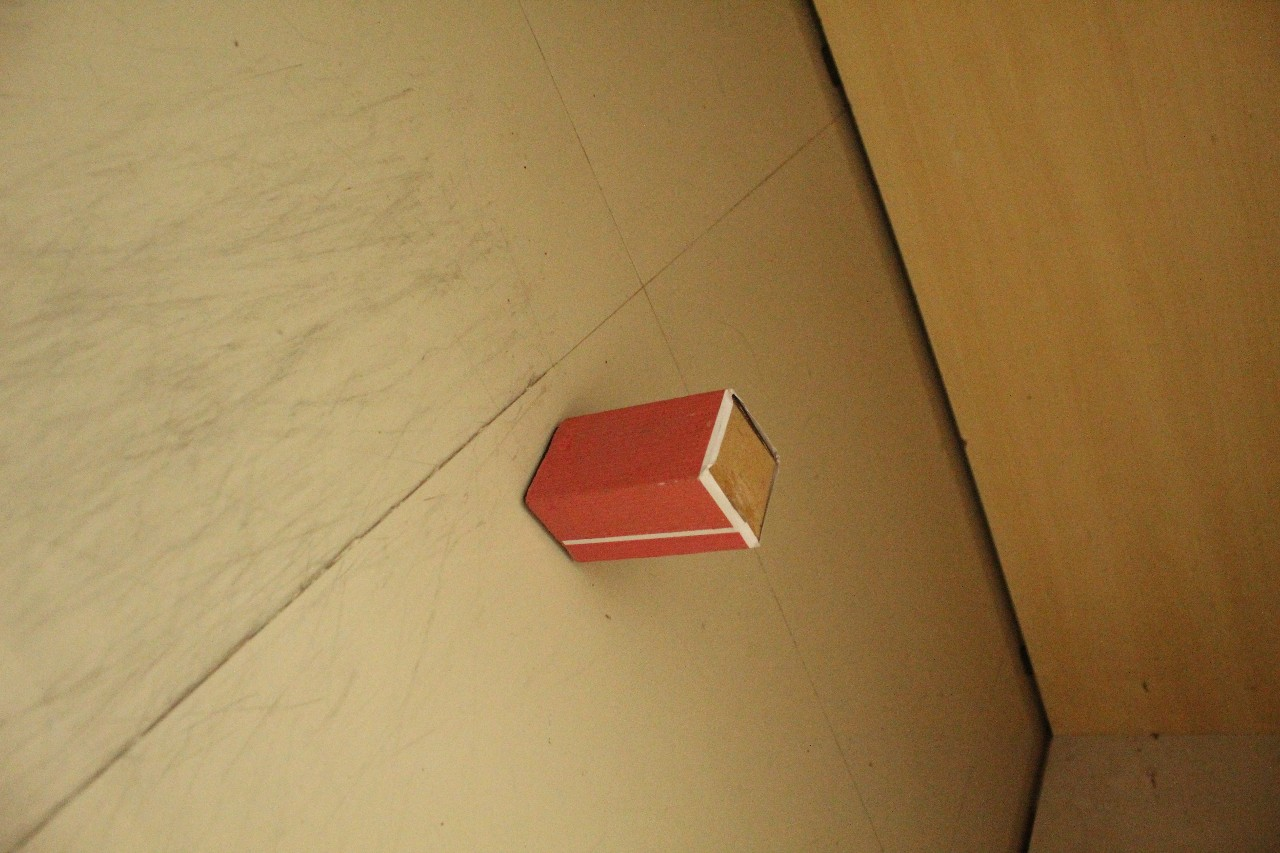red: (511, 379, 792, 574)
